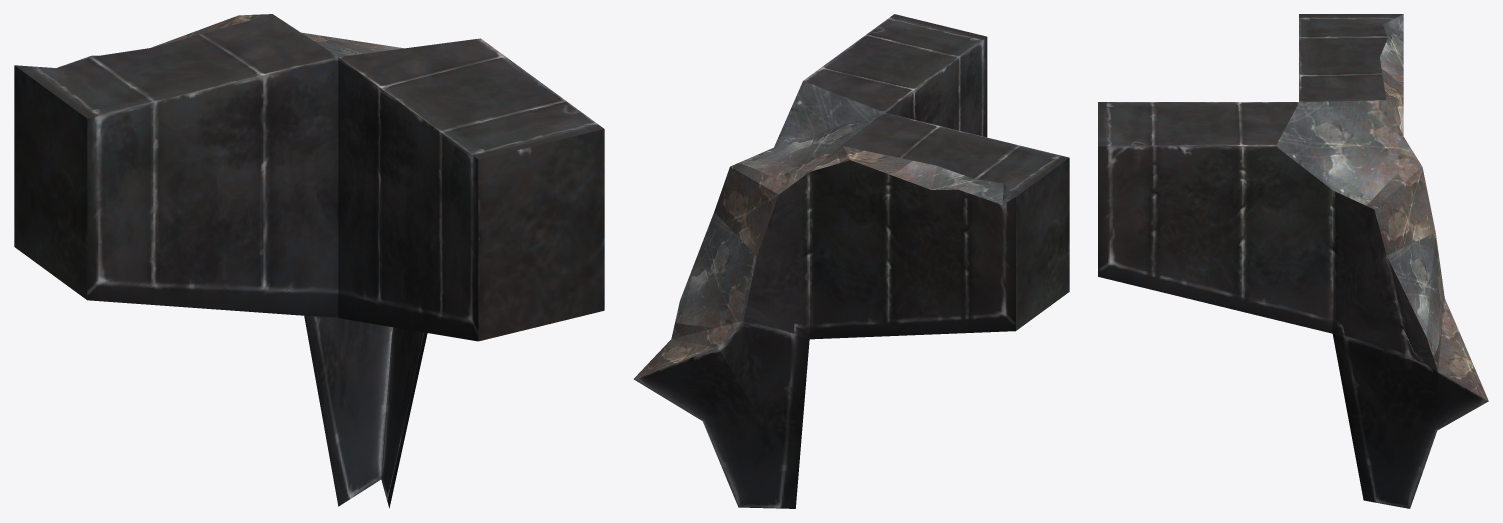
File: A_zhuanjiao001_posun01.fbx
The picture shows the model from 3 angles, left to right: view 1: azimuth 30°, elevation 25°; view 2: azimuth 150°, elevation 25°; view 3: azimuth 270°, elevation 25°; orthographic projection. The views are drawn at different scales.
Visible parts, largest first — view 1: A_zhuanjiao001_posun01; view 2: A_zhuanjiao001_posun01; view 3: A_zhuanjiao001_posun01.
Boxes of the visible parts, x1,y1,x2,y2 form: A_zhuanjiao001_posun01: (14,14,604,508); A_zhuanjiao001_posun01: (633,14,1069,508); A_zhuanjiao001_posun01: (1098,14,1488,508).
Bounding box in the file's own units: 215 × 227 × 221.
